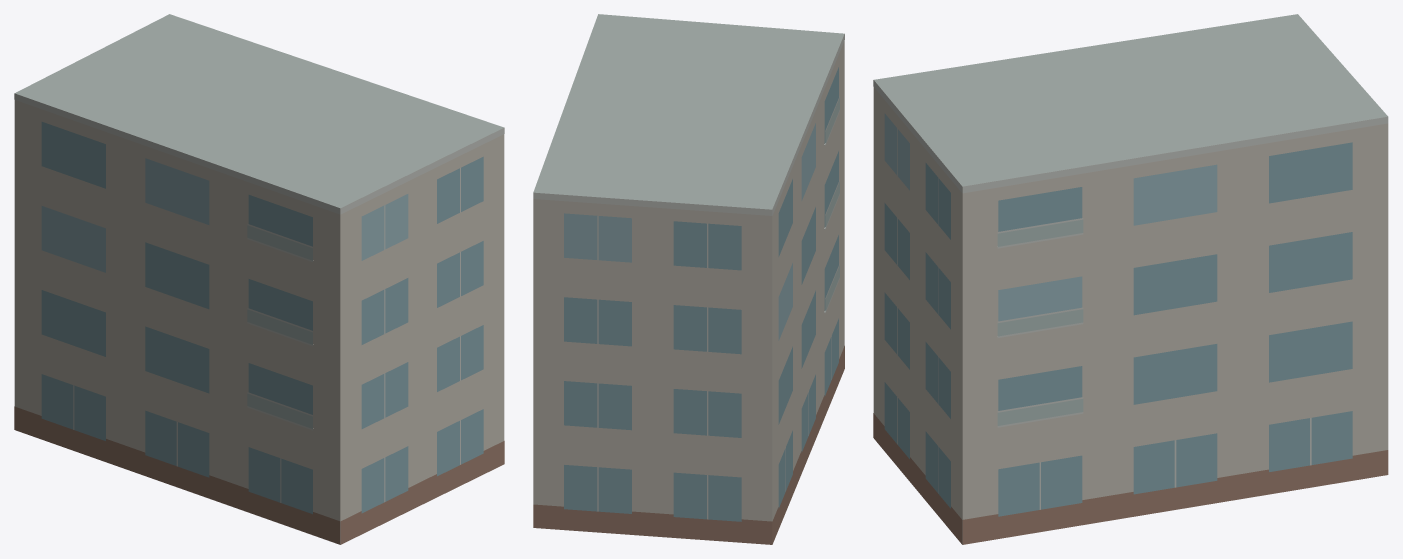
File: survey-upis-32886200.glb
The picture shows the model from 3 angles, left to right: view 1: azimuth 30°, elevation 25°; view 2: azimuth 150°, elevation 25°; view 3: azimuth 270°, elevation 25°; orthographic projection. The views are drawn at different scales.
Parts seen in each view (by area): view 1: survey-upis-32886200.tmp; view 2: survey-upis-32886200.tmp; view 3: survey-upis-32886200.tmp.
Boxes of the visible parts, x1=… form: survey-upis-32886200.tmp: x1=14, y1=14, x2=504, y2=544; survey-upis-32886200.tmp: x1=533, y1=14, x2=844, y2=544; survey-upis-32886200.tmp: x1=873, y1=14, x2=1388, y2=544.
Bounding box in the file's own units: 13.34 × 12.9 × 16.81.
